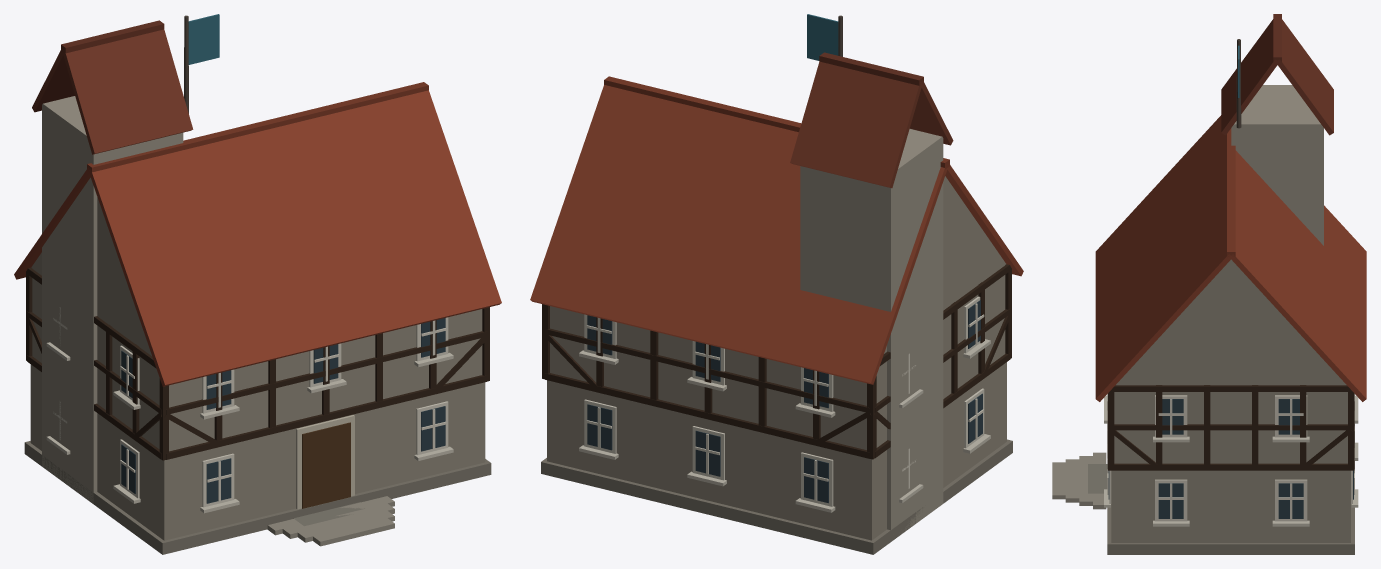
The model's file is procedural_hall@3.glb.
3 renders of one model, left to right at view 1: azimuth 30°, elevation 25°; view 2: azimuth 150°, elevation 25°; view 3: azimuth 270°, elevation 25°, orthographic. The views are drawn at different scales.
Parts seen in each view (by area): view 1: part_0; view 2: part_0; view 3: part_0.
Part boxes in pixels (<box>): part_0: <box>14,14,501,554</box>; part_0: <box>530,14,1023,554</box>; part_0: <box>1052,14,1366,554</box>.
Size of the model in its own units: 9.03 by 11.8 by 8.13.
